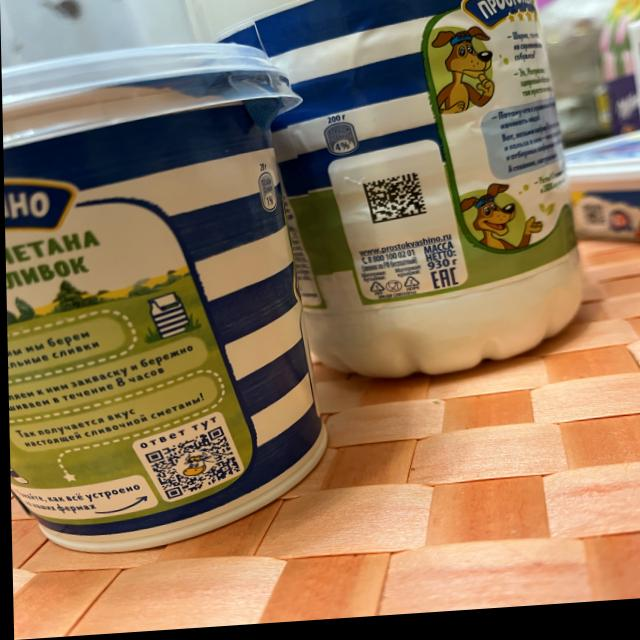datamatrix: (361, 178, 428, 232)
qrcode: (143, 429, 240, 504)
